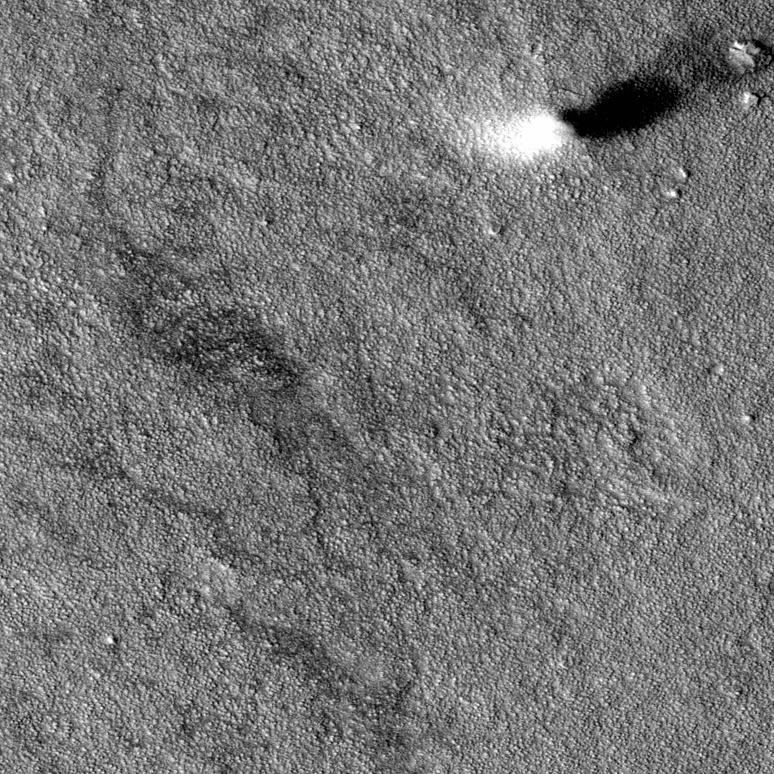dust_devil: (465, 21, 742, 166)
